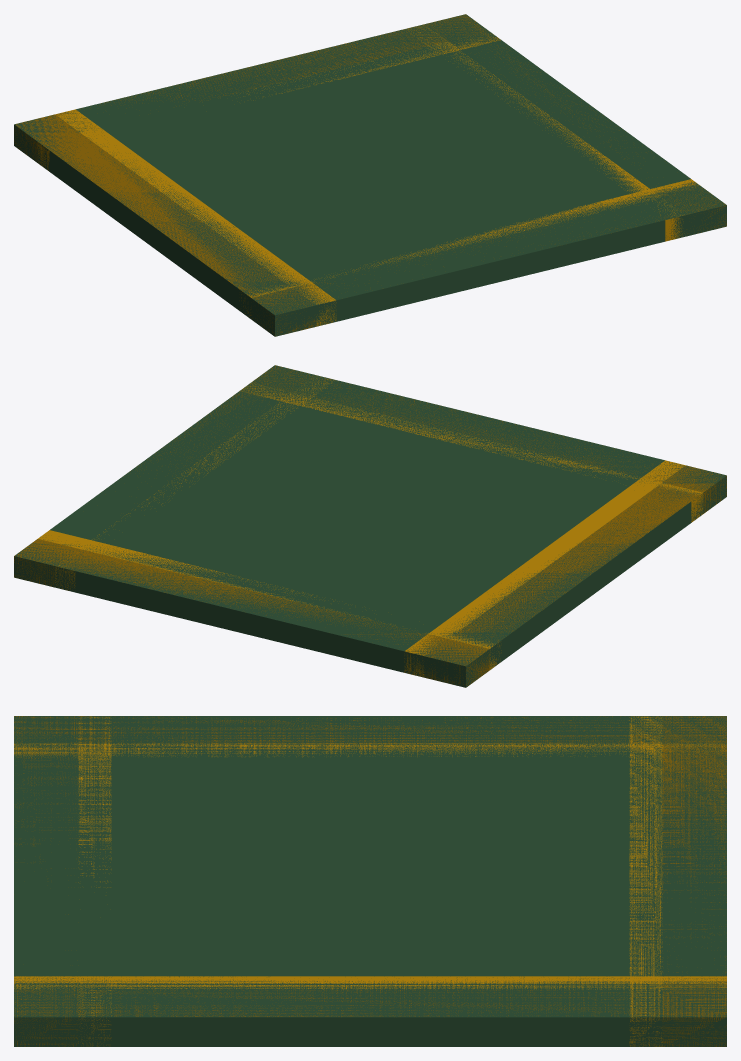
File: setpiece_Carpet_sewers.glb
3 views of the same model, one above another, from view 1: azimuth 30°, elevation 25°; view 2: azimuth 150°, elevation 25°; view 3: azimuth 270°, elevation 25° (orthographic). The views are drawn at different scales.
Parts seen in each view (by area): view 1: Carpet_8, Carpet_9, Carpet_0, Carpet_10, Carpet_1, Carpet_12, Carpet_2, Carpet_4, Carpet_13, Carpet_5, Carpet_6, Carpet_3 (+2 smaller); view 2: Carpet_8, Carpet_0, Carpet_9, Carpet_1, Carpet_4, Carpet_10, Carpet_5, Carpet_12, Carpet_2, Carpet_3, Carpet_11, Carpet_13; view 3: Carpet_2, Carpet_0, Carpet_3, Carpet_6, Carpet_1, Carpet_7, Carpet_10, Carpet_11, Carpet_4, Carpet_14, Carpet_8, Carpet_15 (+4 smaller).
Boxes of the visible parts, x1,y1,x2,y2 form: Carpet_8: [19, 16, 726, 335]; Carpet_9: [56, 18, 719, 303]; Carpet_0: [14, 14, 726, 336]; Carpet_10: [77, 36, 664, 320]; Carpet_1: [14, 15, 725, 334]; Carpet_12: [22, 20, 700, 297]; Carpet_2: [16, 14, 726, 336]; Carpet_4: [14, 16, 724, 335]; Carpet_13: [217, 43, 687, 270]; Carpet_5: [50, 42, 689, 307]; Carpet_6: [20, 16, 660, 296]; Carpet_3: [17, 32, 675, 313]; Carpet_8: [14, 366, 725, 686]; Carpet_0: [14, 365, 726, 687]; Carpet_9: [20, 366, 682, 655]; Carpet_1: [15, 366, 725, 687]; Carpet_4: [16, 365, 726, 686]; Carpet_10: [77, 381, 663, 670]; Carpet_5: [50, 392, 690, 645]; Carpet_12: [30, 384, 701, 657]; Carpet_2: [14, 365, 722, 687]; Carpet_3: [57, 375, 721, 665]; Carpet_11: [77, 394, 663, 650]; Carpet_13: [54, 392, 648, 595]; Carpet_2: [14, 716, 726, 1016]; Carpet_0: [14, 716, 726, 1046]; Carpet_3: [14, 716, 726, 989]; Carpet_6: [78, 716, 726, 1016]; Carpet_1: [14, 716, 726, 1046]; Carpet_7: [111, 716, 662, 988]; Carpet_10: [14, 758, 726, 976]; Carpet_11: [14, 744, 726, 986]; Carpet_4: [14, 716, 726, 1046]; Carpet_14: [79, 744, 726, 976]; Carpet_8: [14, 716, 726, 1016]; Carpet_15: [111, 758, 629, 976].
Size of the model in its own units: 1 by 0.0455 by 1.
Materials: 16 (16 with a texture image).
